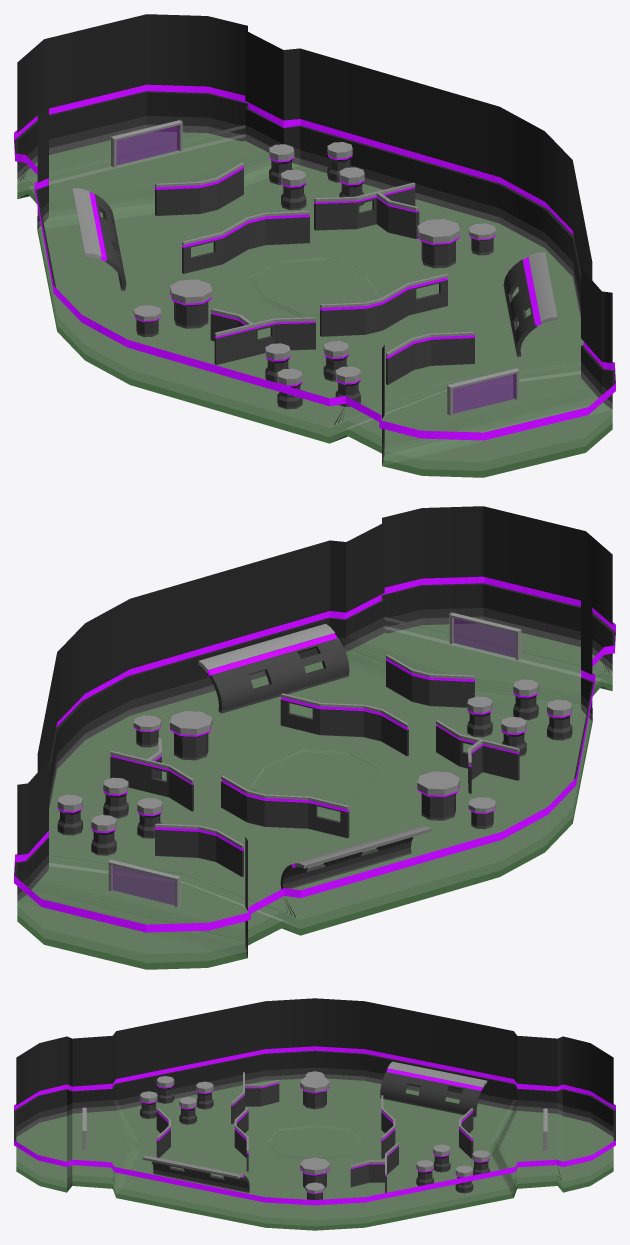
Rendered from Map_Single.fbx.
The picture shows the model from 3 angles, top to bottom: view 1: azimuth 30°, elevation 25°; view 2: azimuth 150°, elevation 25°; view 3: azimuth 270°, elevation 25°; orthographic projection. The views are drawn at different scales.
Parts seen in each view (by area): view 1: Map_Single; view 2: Map_Single; view 3: Map_Single.
Part boxes in pixels (left/top/right/bottom): Map_Single: left=14, top=14, right=615, bottom=477; Map_Single: left=14, top=506, right=615, bottom=969; Map_Single: left=14, top=998, right=615, bottom=1230.
Bounding box in the file's own units: 172 × 41.3 × 283.
